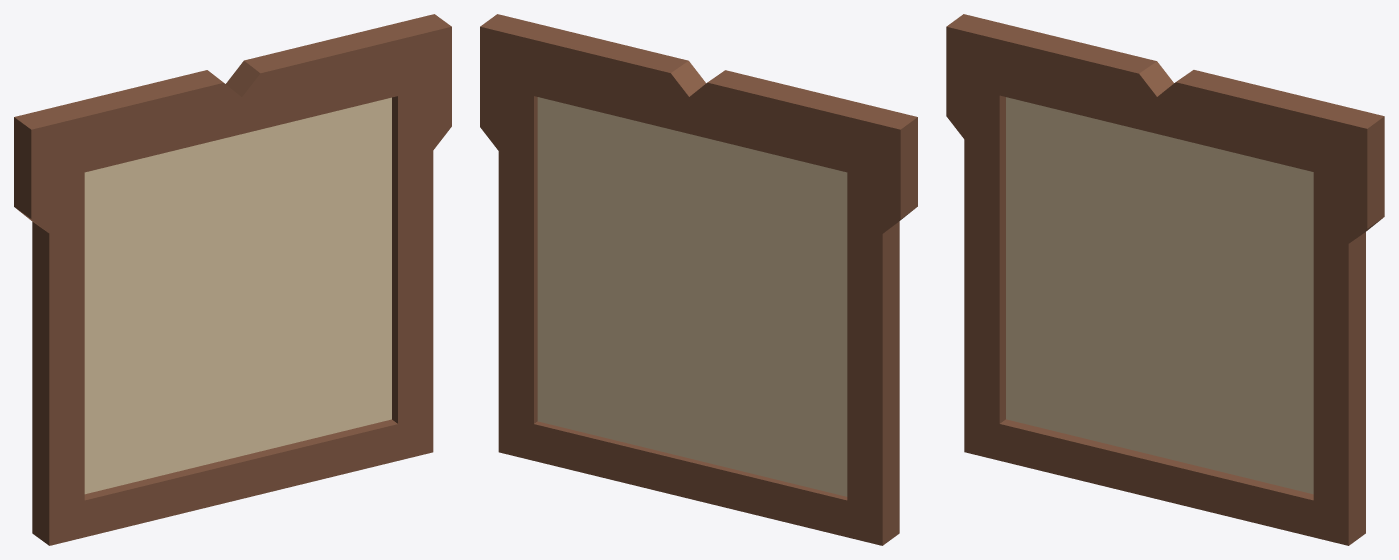
The model's file is Bread_Coin.glb.
3 views of the same model, side by side, from view 1: azimuth 30°, elevation 25°; view 2: azimuth 150°, elevation 25°; view 3: azimuth 330°, elevation 25° (orthographic).
Parts seen in each view (by area): view 1: Cube.001, Cube; view 2: Cube.001, Cube; view 3: Cube.001, Cube.
Boxes of the visible parts, x1,y1,x2,y2 form: Cube.001: (84,97,391,494); Cube: (14,14,451,545); Cube.001: (537,97,847,496); Cube: (480,14,917,545); Cube.001: (1006,97,1313,494); Cube: (946,14,1384,545).
Size of the model in its own units: 2.19 by 2.1 by 0.1561.
